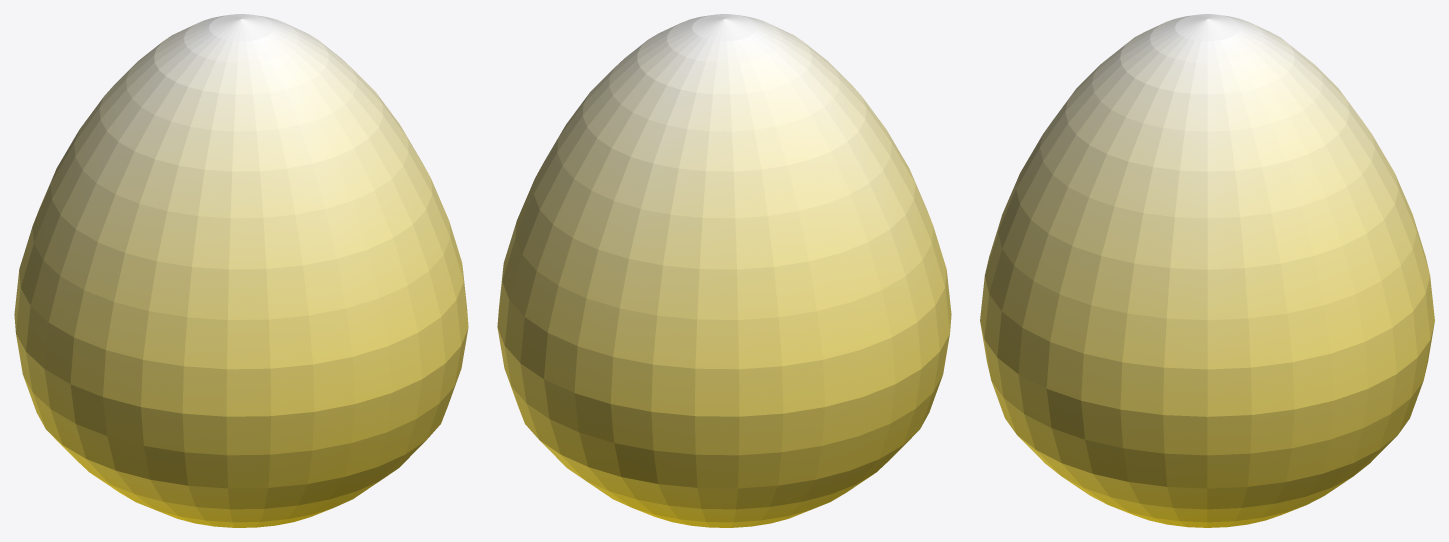
The model's file is egg_1.1.fbx.
The picture shows the model from 3 angles, left to right: view 1: azimuth 30°, elevation 25°; view 2: azimuth 150°, elevation 25°; view 3: azimuth 270°, elevation 25°; orthographic projection.
Visible parts, largest first — view 1: egg; view 2: egg; view 3: egg.
Part boxes in pixels (box(x1,y1,x2,y2)): egg: box(14, 14, 468, 527); egg: box(497, 14, 951, 527); egg: box(980, 14, 1434, 527).
Size of the model in its own units: 1.84 by 2.16 by 1.84.
Materials: 1 (1 with a texture image).
